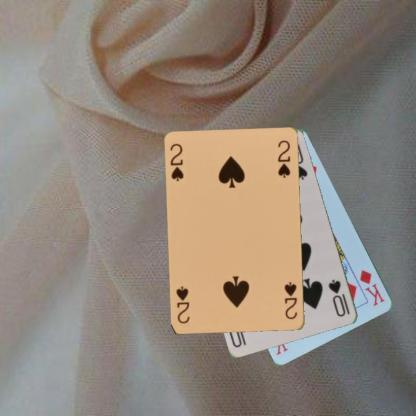10s: (326, 276, 348, 318)
2s: (168, 141, 186, 183), (282, 279, 299, 321)
Kd: (357, 266, 386, 308)
